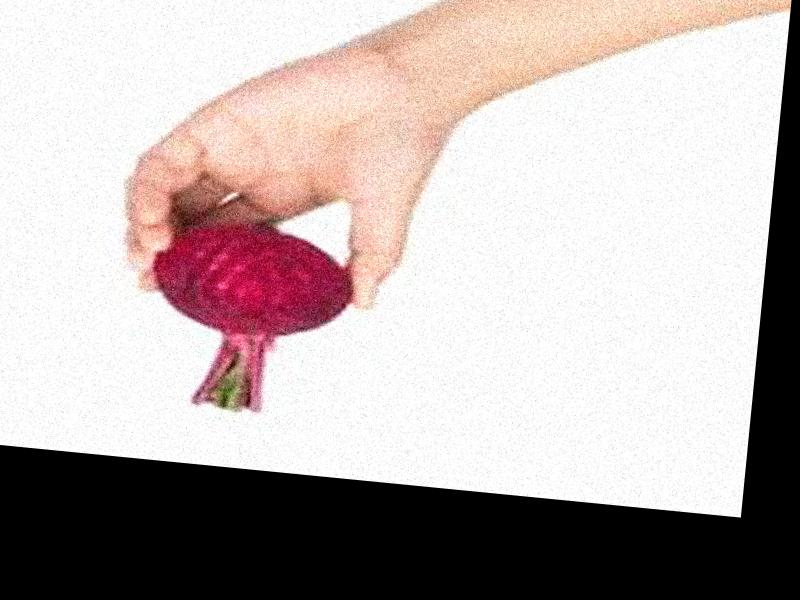Beet: (136, 214, 356, 421)
